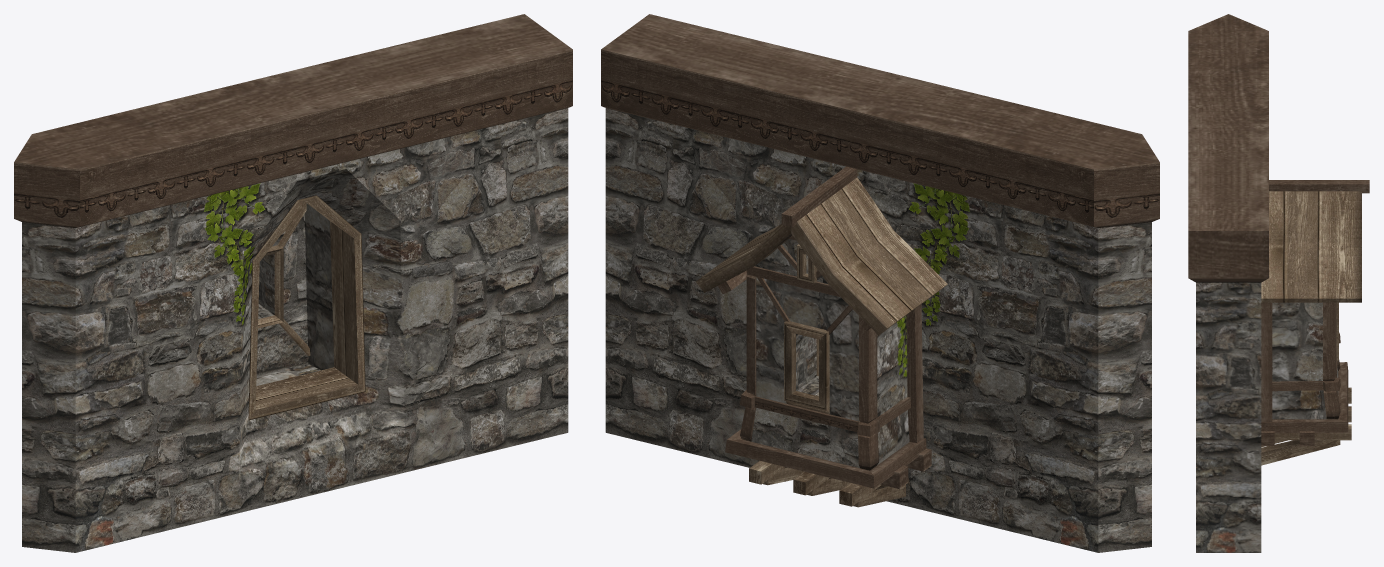
File: House_Stone_Wall_Upper_Oriel2.dae
3 views of the same model, side by side, from view 1: azimuth 30°, elevation 25°; view 2: azimuth 150°, elevation 25°; view 3: azimuth 270°, elevation 25° (orthographic). The views are drawn at different scales.
Visible parts, largest first — view 1: oriel2; view 2: oriel2; view 3: oriel2.
Boxes of the visible parts, x1,y1,x2,y2 form: oriel2: (14,14,572,552); oriel2: (601,14,1159,552); oriel2: (1188,14,1369,552).
Bounding box in the file's own units: 4.34 × 3 × 1.53.
Materials: 1 (1 with a texture image).
